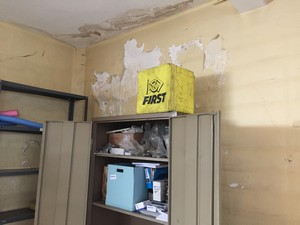cube: (138, 68, 196, 114)
